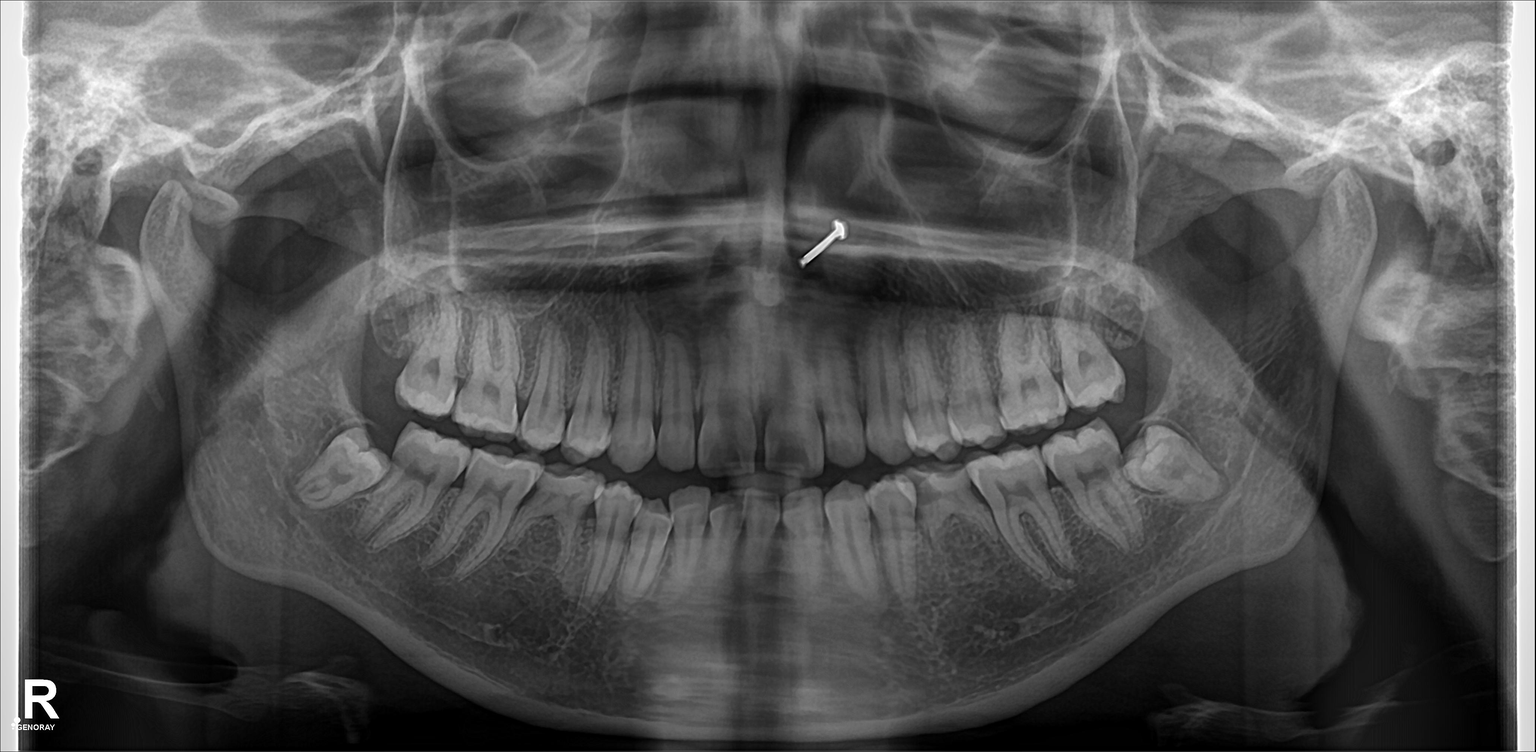Impacted Third Molar: (291, 436, 393, 506), (1125, 430, 1226, 500)
Missing Tooth: (354, 290, 408, 383), (1126, 292, 1158, 405)
